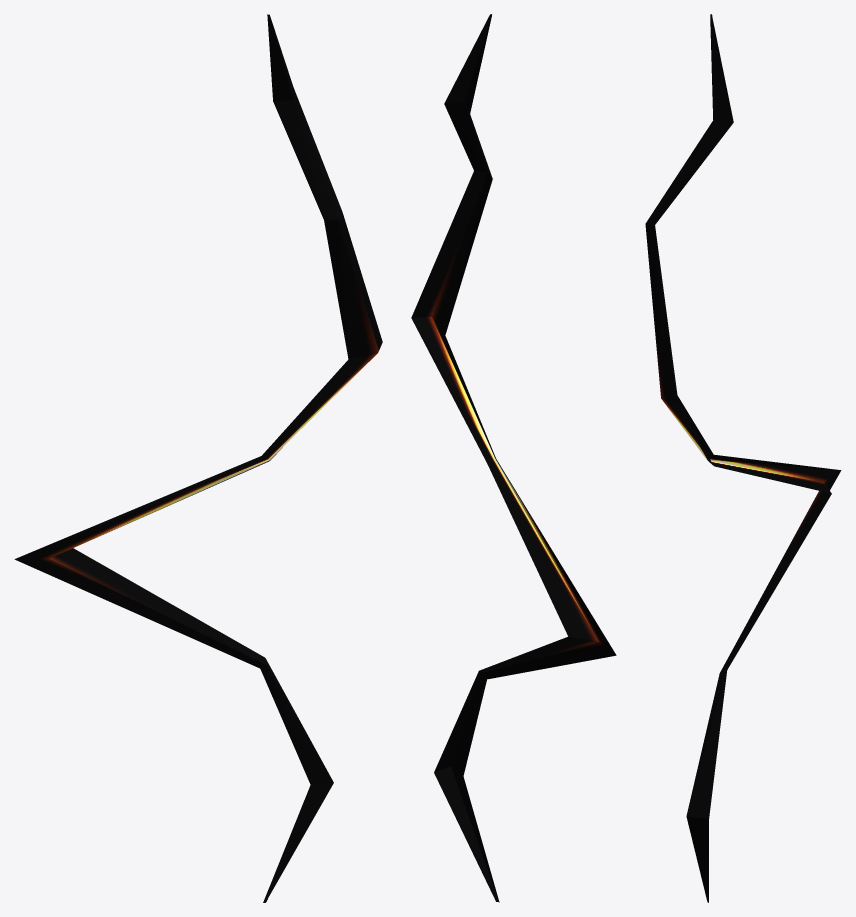
Rendered from 0361_lei1.glb.
3 renders of one model, left to right at view 1: azimuth 30°, elevation 25°; view 2: azimuth 150°, elevation 25°; view 3: azimuth 270°, elevation 25°, orthographic.
Size of the model in its own units: 0.7453 by 2.2 by 0.4392.
1 material, 1 textured.
